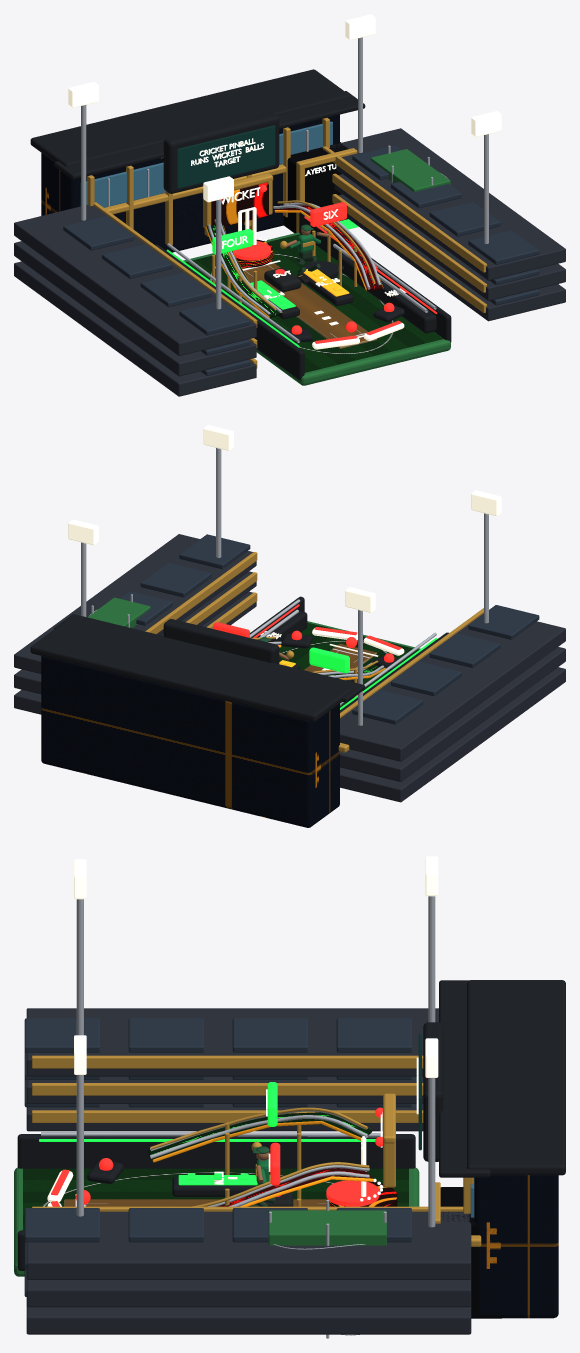
File: cricket-world-v2.glb
3 views of the same model, one above another, from view 1: azimuth 30°, elevation 25°; view 2: azimuth 150°, elevation 25°; view 3: azimuth 270°, elevation 25° (orthographic). The views are drawn at different scales.
Visible parts, largest first — view 1: Cricket_Pavilion_Roof, Cricket_Stand_-1_2, Cricket_Stand_1_2, Cricket_Pavilion, Skin_Playfield_Surface, Cricket_Stand_-1_0, Cricket_Stand_-1_1, Cricket_Scoreboard_Screen, Pavilion_GlassBand, Cricket_Stand_1_1, Cricket_Stand_1_0, Pavilion_Canopy (+40 smaller); view 2: Cricket_Pavilion, Cricket_Pavilion_Roof, Cricket_Stand_-1_2, Cricket_Stand_1_2, Cricket_Stand_-1_0, Cricket_Stand_-1_1, Pavilion_Canopy, Cricket_Scoreboard_Frame, Skin_Playfield_Surface, SeatBand_1_2_1, SeatBand_-1_2_1, SeatBand_-1_2_2 (+20 smaller); view 3: Cricket_Stand_1_2, Cricket_Pavilion_Roof, Cricket_Stand_-1_2, Cricket_Stand_1_0, Cricket_Stand_1_1, Cricket_Pavilion, Cricket_LeftWall, Skin_Playfield_Surface, Pavilion_Canopy, StandFascia_-1_2, Cricket_Stand_-1_1, StandFascia_-1_1 (+32 smaller).
Boxes of the visible parts, x1,y1,x2,y2 form: Cricket_Pavilion_Roof: (30, 69, 350, 166); Cricket_Stand_-1_2: (14, 204, 256, 355); Cricket_Stand_1_2: (330, 128, 565, 280); Cricket_Pavilion: (41, 114, 339, 252); Skin_Playfield_Surface: (185, 234, 443, 372); Cricket_Stand_-1_0: (14, 261, 256, 396); Cricket_Stand_-1_1: (14, 241, 256, 376); Cricket_Scoreboard_Screen: (177, 125, 275, 188); Pavilion_GlassBand: (80, 121, 332, 207); Cricket_Stand_1_1: (334, 174, 565, 300); Cricket_Stand_1_0: (338, 194, 565, 321); Pavilion_Canopy: (54, 91, 365, 179); Cricket_Pavilion: (41, 656, 339, 827); Cricket_Pavilion_Roof: (30, 620, 350, 722); Cricket_Stand_-1_2: (340, 613, 565, 761); Cricket_Stand_1_2: (14, 534, 256, 673); Cricket_Stand_-1_0: (340, 667, 565, 802); Cricket_Stand_-1_1: (340, 647, 565, 781); Pavilion_Canopy: (54, 614, 365, 702); Cricket_Scoreboard_Frame: (163, 619, 279, 663); Skin_Playfield_Surface: (279, 622, 418, 707); SeatBand_1_2_1: (140, 562, 211, 597); SeatBand_-1_2_1: (429, 633, 500, 667); SeatBand_-1_2_2: (391, 661, 461, 696); Cricket_Stand_1_2: (26, 1211, 471, 1279); Cricket_Pavilion_Roof: (467, 980, 565, 1175); Cricket_Stand_-1_2: (26, 1008, 438, 1076); Cricket_Stand_1_0: (26, 1306, 471, 1334); Cricket_Stand_1_1: (26, 1279, 471, 1307); Cricket_Pavilion: (474, 1175, 558, 1318); Cricket_LeftWall: (17, 1134, 415, 1168); Skin_Playfield_Surface: (23, 1168, 408, 1230); Pavilion_Canopy: (439, 980, 490, 1177); StandFascia_-1_2: (32, 1055, 423, 1068); Cricket_Stand_-1_1: (26, 1076, 423, 1103); StandFascia_-1_1: (32, 1083, 423, 1095).
Bounding box in the file's own units: 8.4 × 4.24 × 7.69.
Materials: 27 (7 with a texture image).
